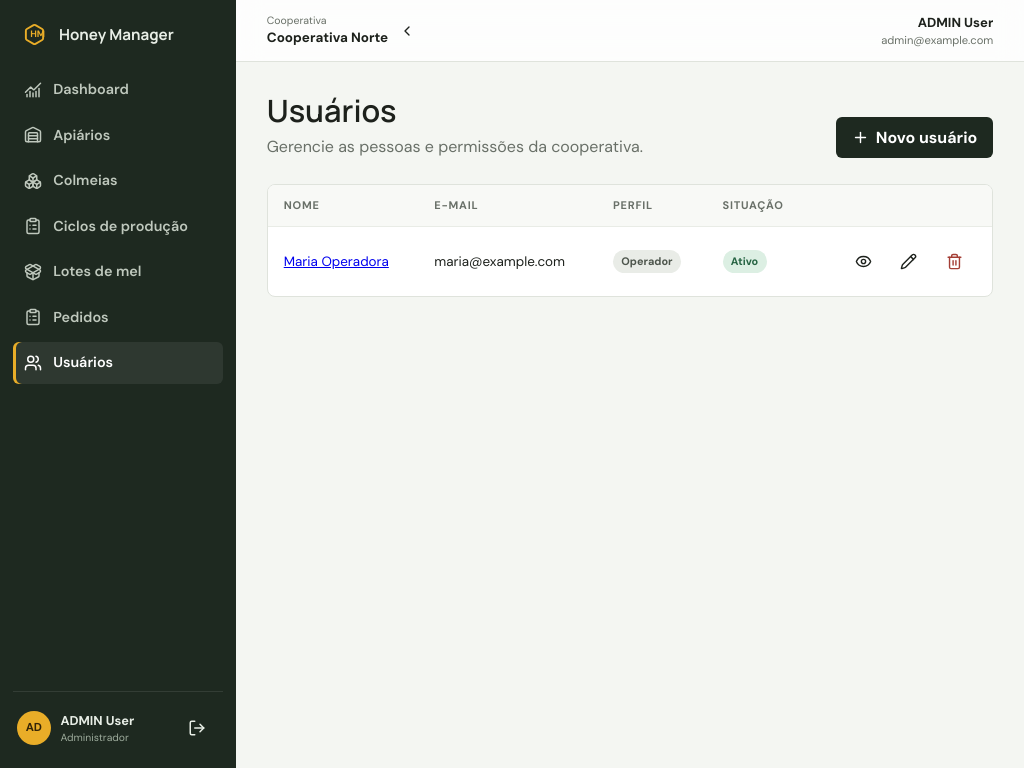
Test: User management › deletes only after confirmation and refreshes the list
Click the button named "Excluir Maria Operadora".
click(954, 261)  # box [932,239,976,283]
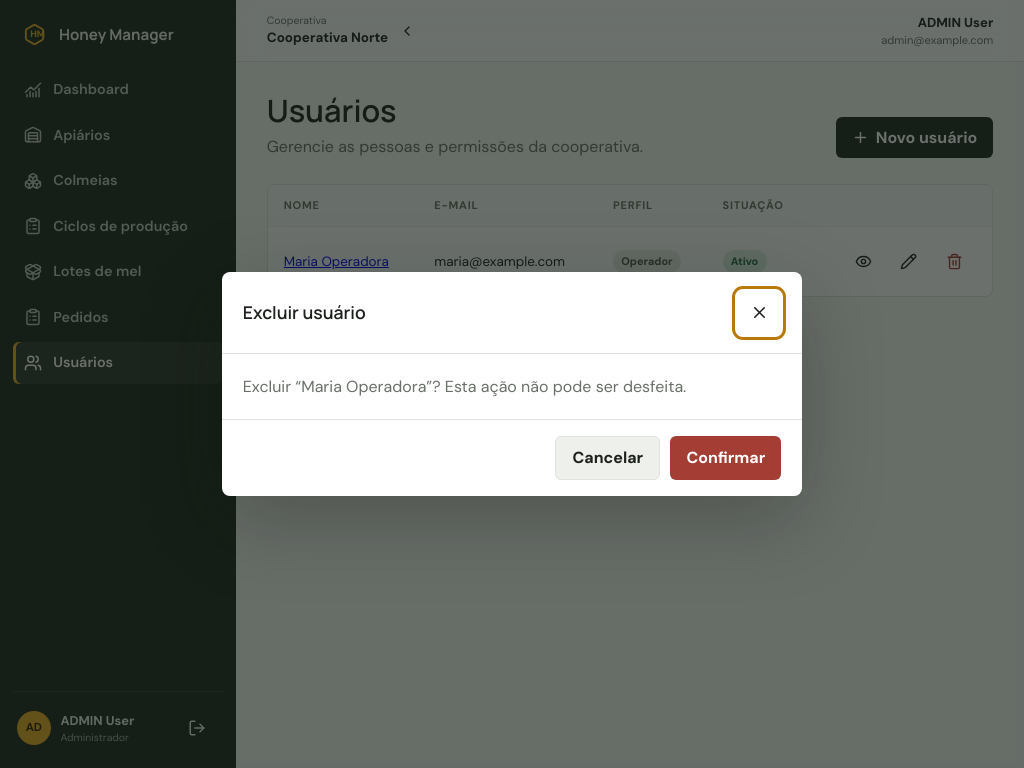
expect the dialog "Excluir usuário" is shown: met, box [222,272,802,496]
Click the button "Confirmar".
click(726, 458)  # box [670,436,781,480]
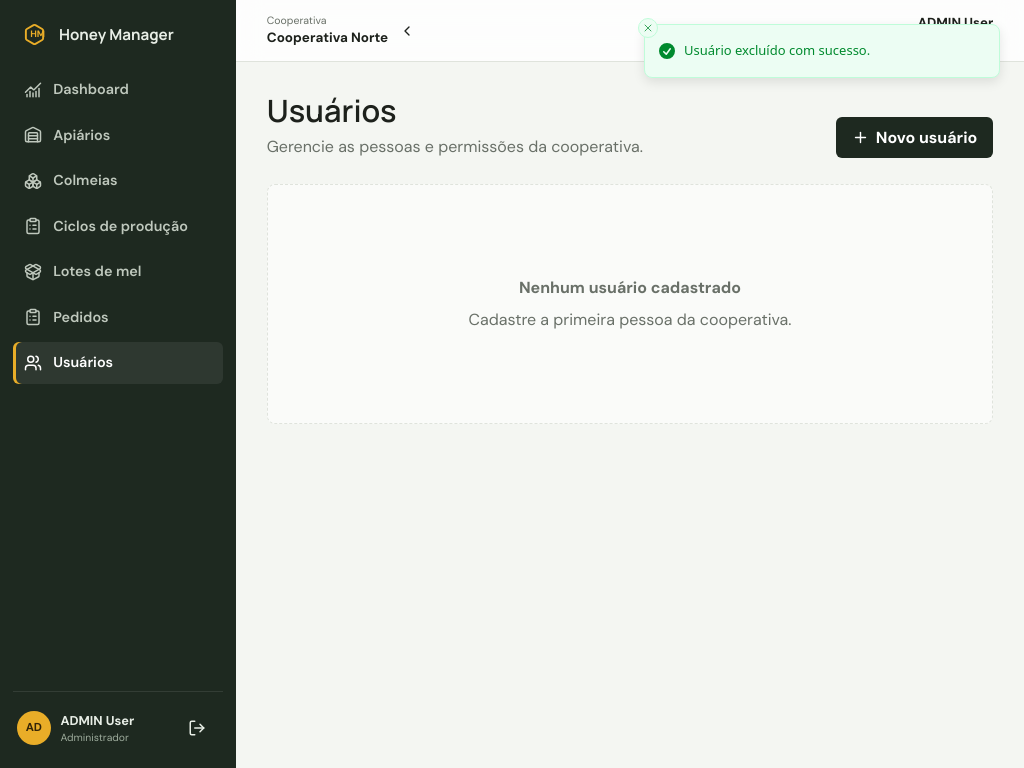
expect the text "Nenhum usuário cadastrado" is shown: met, box [519,276,741,300]
expect the text "Usuário excluído com sucesso." is shown: met, box [684,41,870,60]
